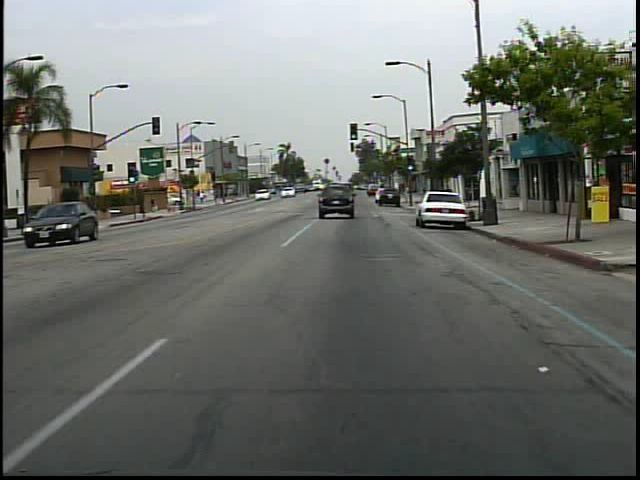person: (144, 191, 163, 219), (198, 188, 207, 207)
